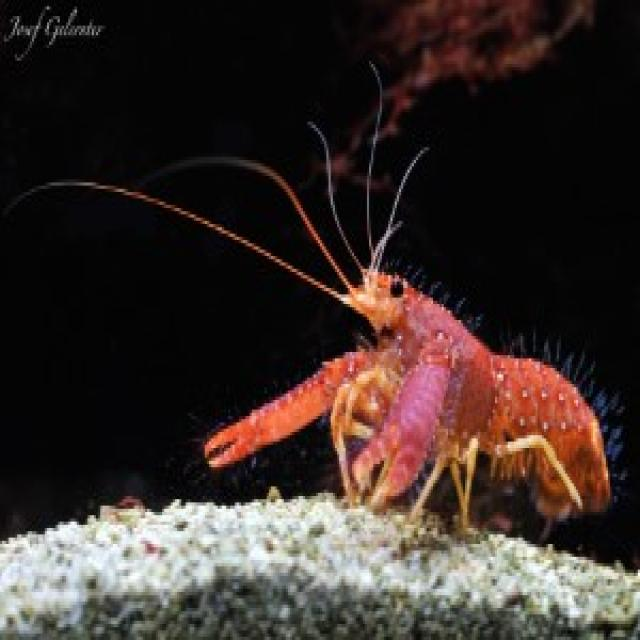lobsters: (218, 140, 638, 576)
